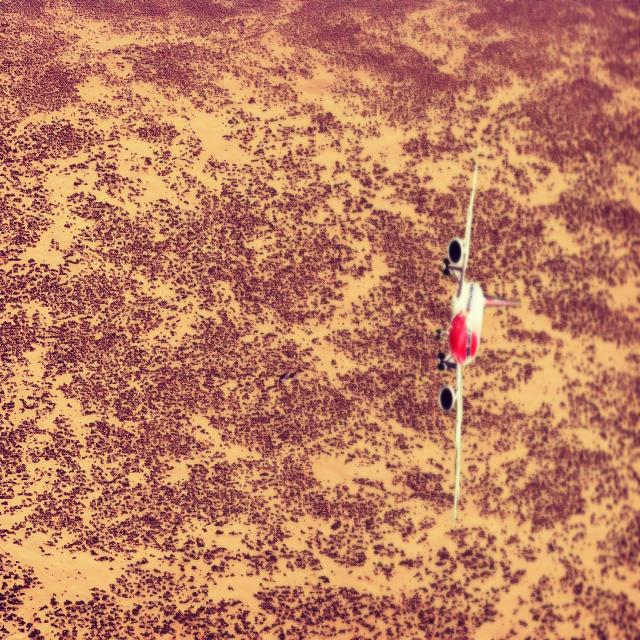airplane: (435, 163, 520, 521)
